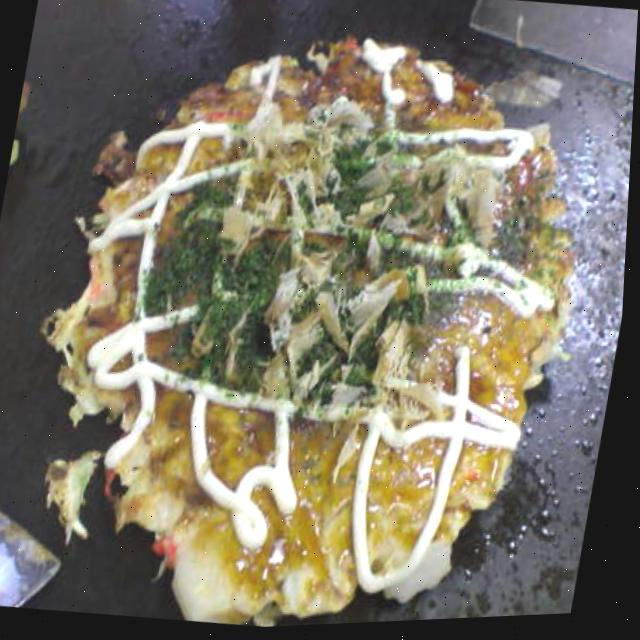蛋糕甜品: (16, 0, 608, 639)
